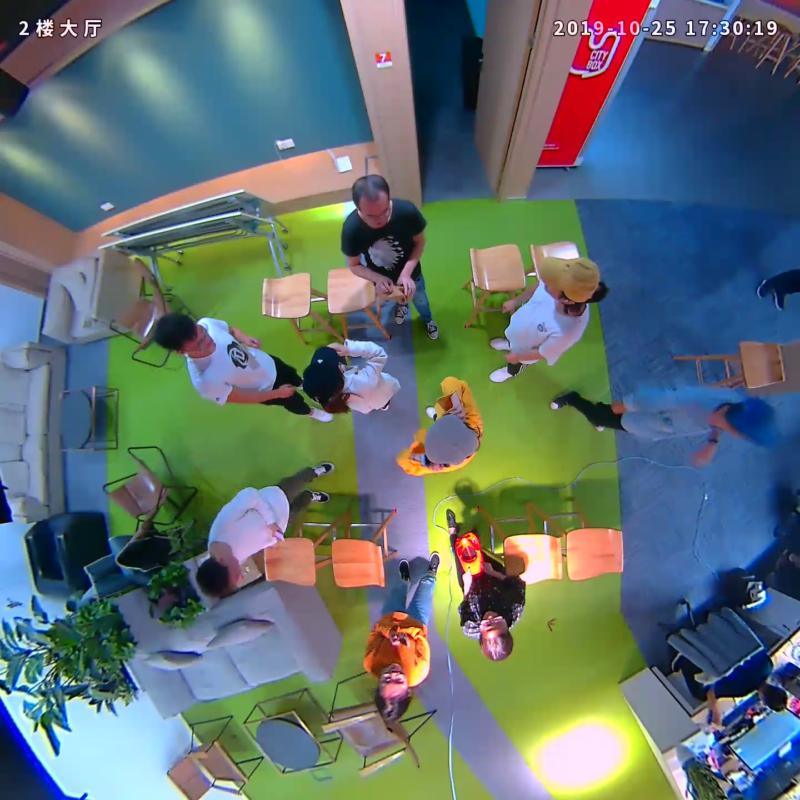head: (537, 256, 600, 307), (423, 413, 478, 467), (722, 398, 782, 447), (155, 312, 215, 355), (350, 172, 390, 227), (302, 346, 343, 399), (375, 662, 412, 720), (196, 556, 241, 600), (478, 609, 514, 663)
